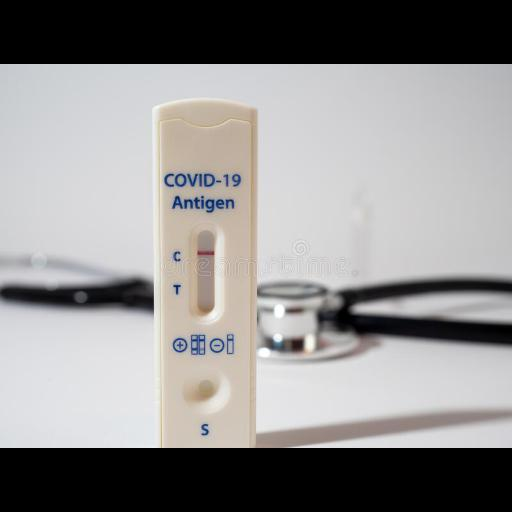Neg: (151, 99, 257, 447)
